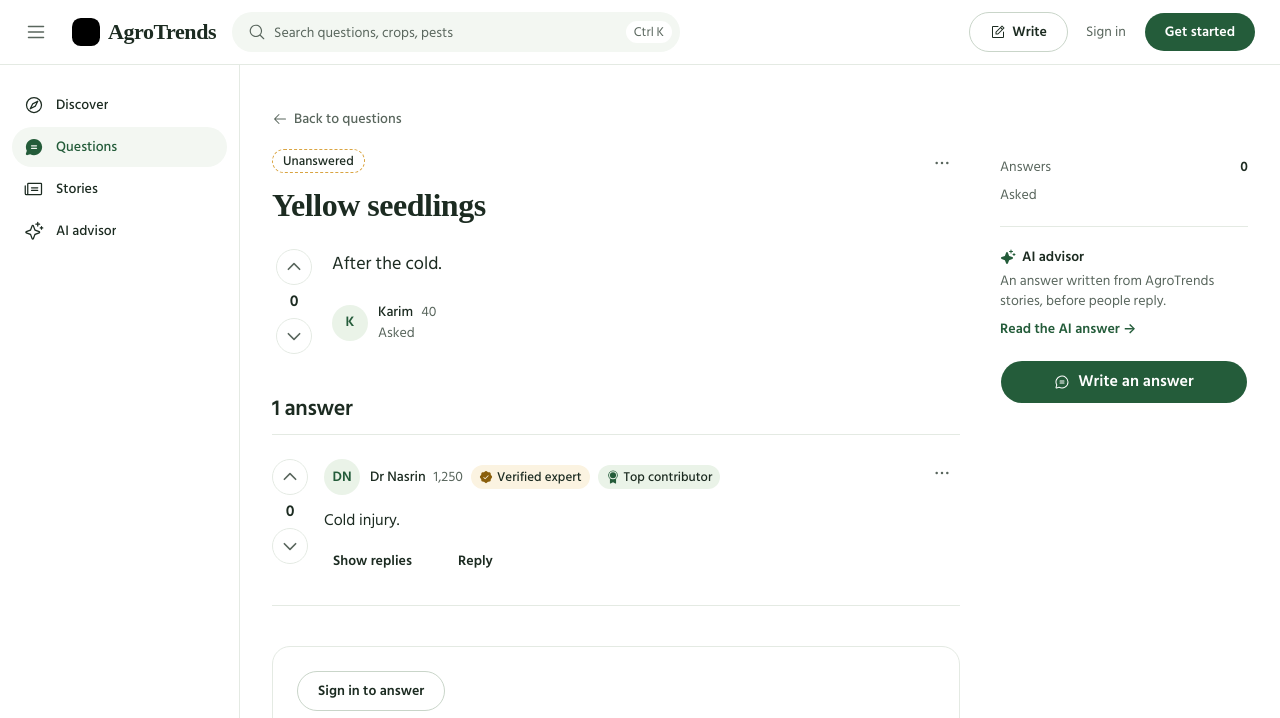
Test case: the profile shows reputation by topic, the expert field, and their questions
Click the link "Dr Nasrin" at (398, 477), box [370,467,426,488]
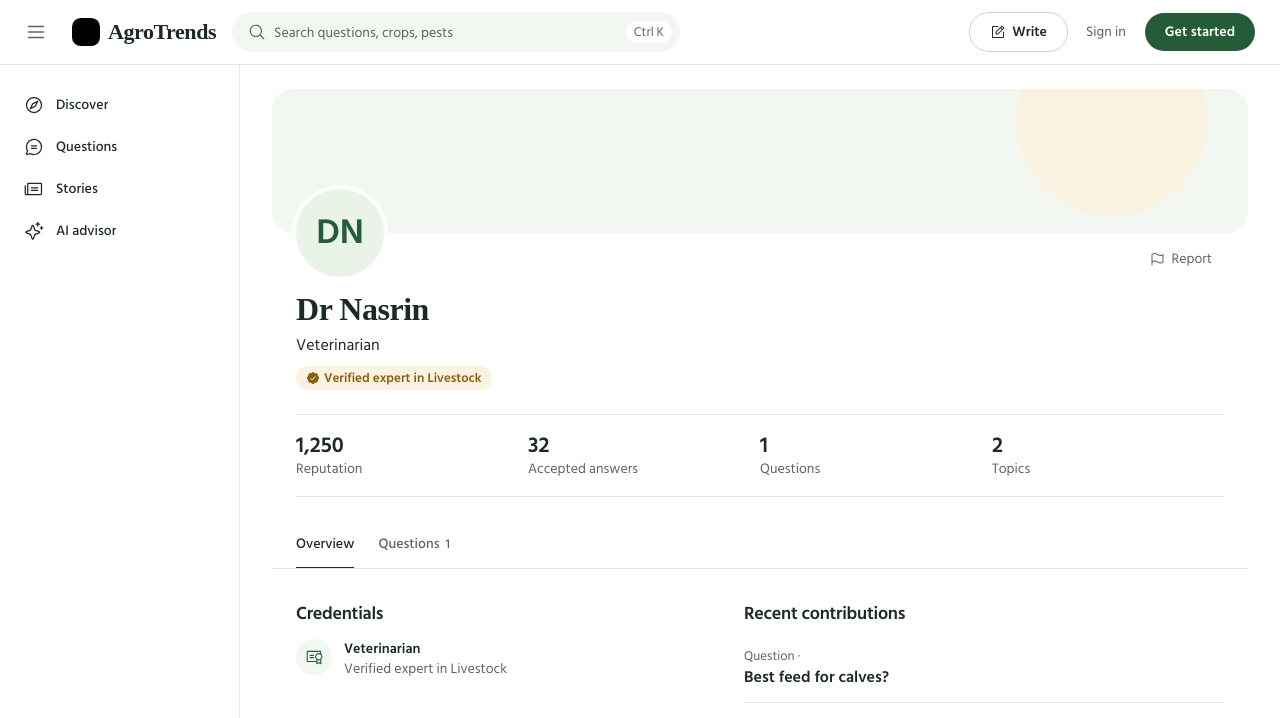
Expected: the heading "Dr Nasrin" is shown, [296,291,429,327]
Expected: the heading "Credentials" is shown, [296,599,383,628]
Expected: the text "Verified expert in Livestock" is shown 2 times, [296,366,492,390]; [344,657,507,680]
